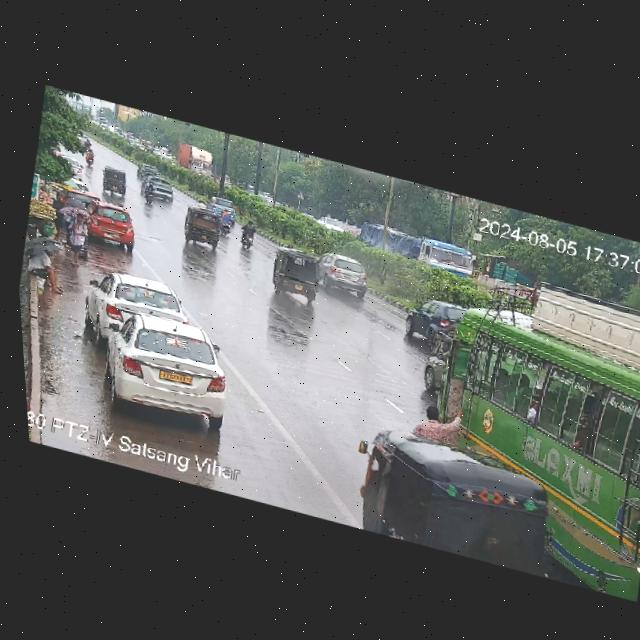bus: (427, 262, 640, 500), (175, 140, 218, 177)
car: (342, 410, 562, 578), (95, 303, 242, 431), (81, 263, 190, 351), (400, 293, 468, 358), (268, 247, 328, 303), (317, 251, 376, 301), (83, 201, 139, 250), (184, 207, 228, 247), (97, 165, 131, 200), (65, 186, 102, 209), (151, 176, 177, 204), (208, 194, 235, 214), (136, 162, 159, 182), (67, 158, 87, 181)
motorcycle: (234, 218, 262, 253), (216, 209, 237, 235), (142, 178, 158, 204), (83, 147, 97, 166)
person: (18, 238, 75, 299), (416, 400, 470, 448), (60, 205, 97, 271)
truck: (365, 223, 483, 284)
